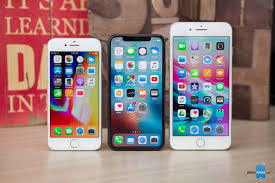iphone: (168, 19, 232, 152), (108, 33, 164, 151), (45, 35, 101, 153)
iphone10: (168, 18, 232, 151), (46, 35, 102, 153), (108, 34, 164, 152)
